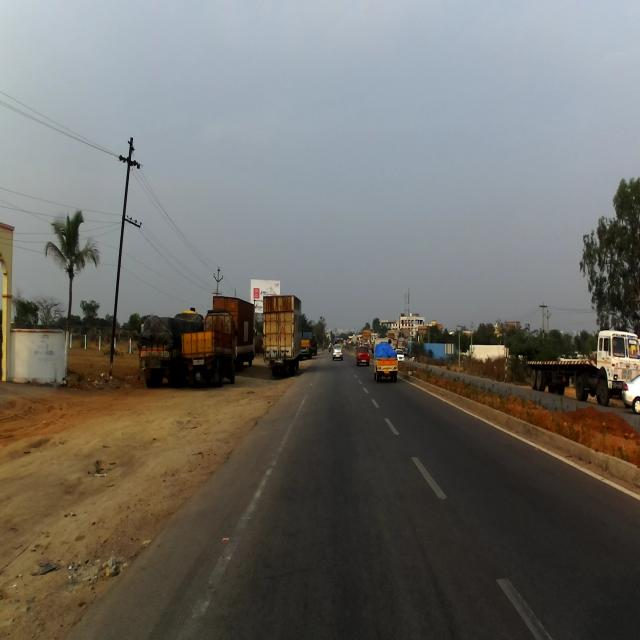truck: (181, 308, 236, 388), (262, 294, 302, 376), (372, 337, 398, 382)
